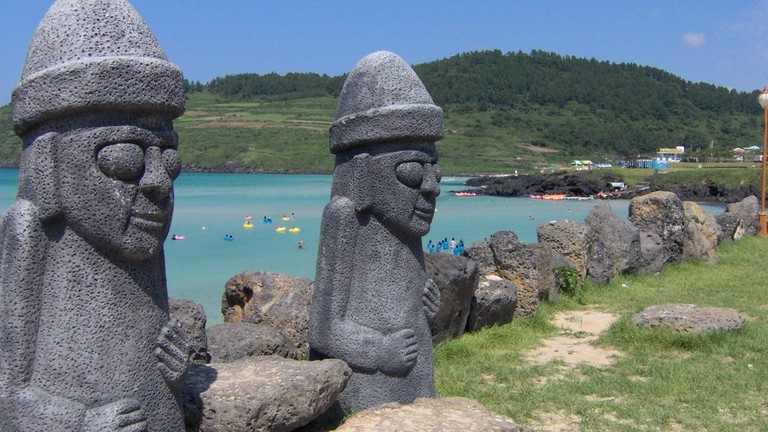person-like: (1, 1, 215, 432), (304, 47, 451, 417)
